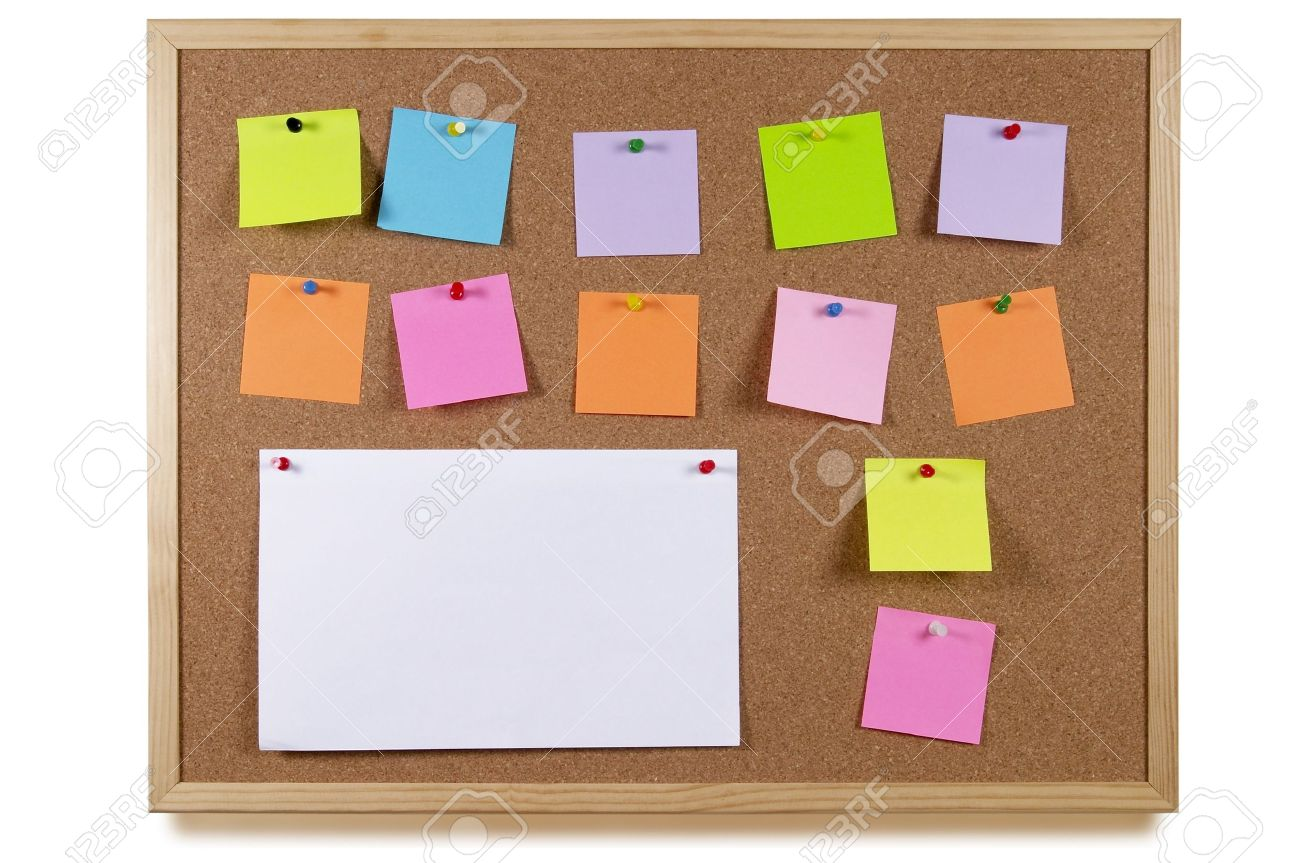stickynote: (751, 106, 904, 253), (852, 601, 1001, 751), (929, 105, 1078, 253), (374, 103, 523, 249), (933, 281, 1079, 429), (387, 270, 532, 416), (763, 285, 902, 433), (233, 270, 376, 413), (567, 123, 713, 263), (857, 453, 1004, 580), (571, 288, 703, 425), (229, 104, 371, 221)
